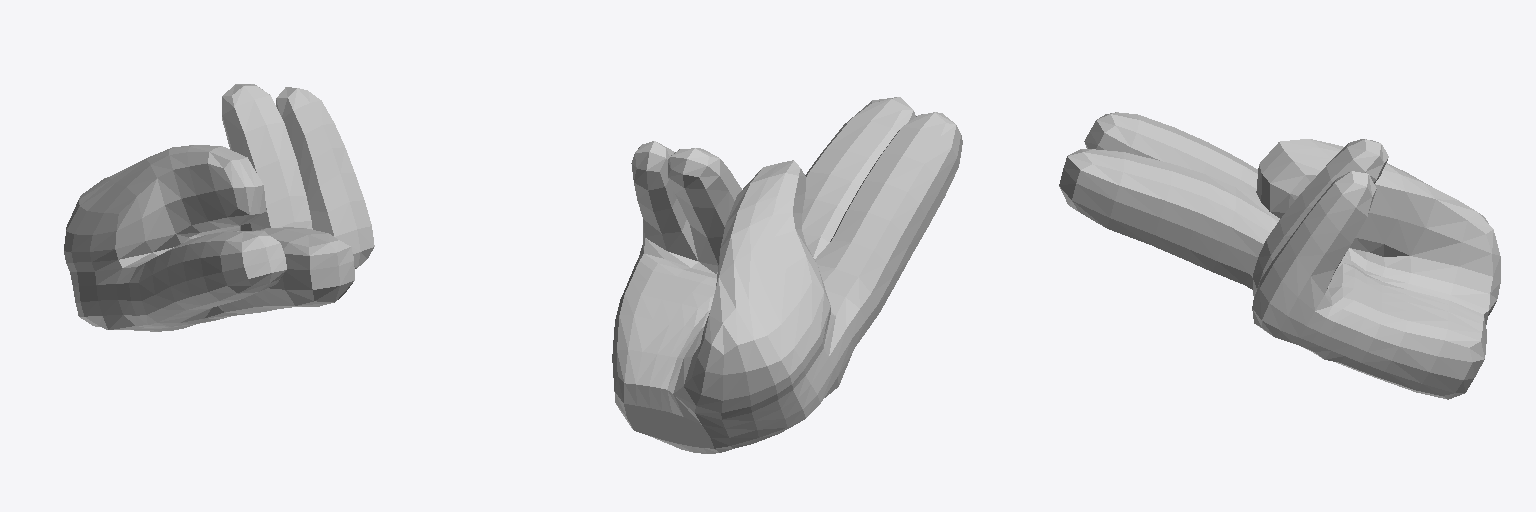
3 views of the same model, side by side, from view 1: azimuth 30°, elevation 25°; view 2: azimuth 150°, elevation 25°; view 3: azimuth 270°, elevation 25° (orthographic).
Visible parts, largest first — view 1: H_Hand; view 2: H_Hand; view 3: H_Hand.
Boxes of the visible parts, x1=… form: H_Hand: x1=64, y1=84, x2=374, y2=331; H_Hand: x1=612, y1=97, x2=962, y2=453; H_Hand: x1=1059, y1=112, x2=1500, y2=399.
Size of the model in its own units: 107 by 118 by 180.